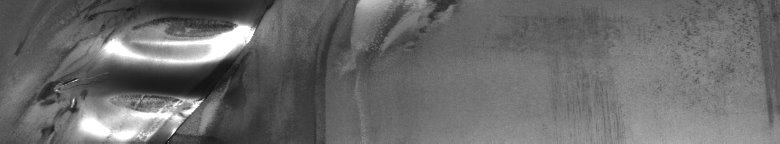ke: (37, 4, 273, 136)
